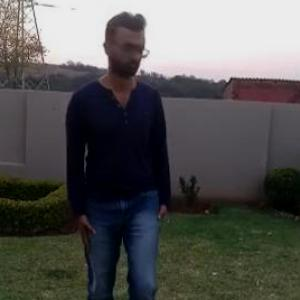follow: (61, 4, 183, 299)
